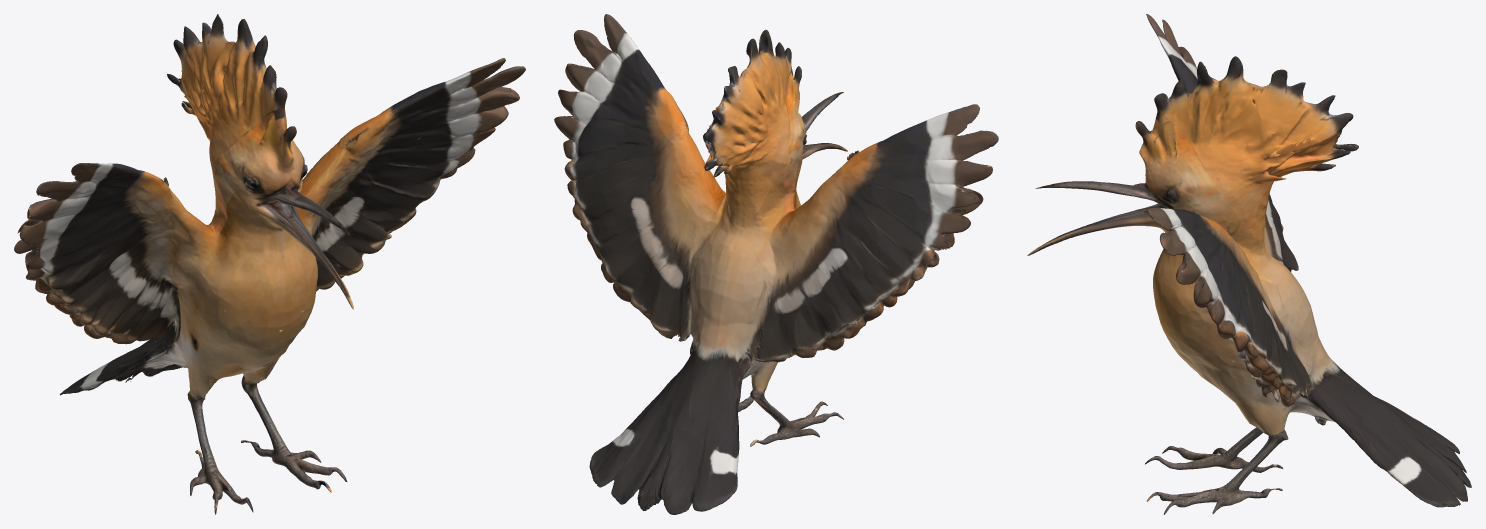
File: hoopoe.glb
3 renders of one model, left to right at view 1: azimuth 30°, elevation 25°; view 2: azimuth 150°, elevation 25°; view 3: azimuth 270°, elevation 25°, orthographic. The views are drawn at different scales.
Parts seen in each view (by area): view 1: Mesh_0.137_Material_0.144_0 (×3); view 2: Mesh_0.137_Material_0.144_0 (×3); view 3: Mesh_0.137_Material_0.144_0 (×3).
Boxes of the visible parts, x1,y1,x2,y2 form: Mesh_0.137_Material_0.144_0 (×3): (14, 14, 525, 514); Mesh_0.137_Material_0.144_0 (×3): (554, 14, 998, 514); Mesh_0.137_Material_0.144_0 (×3): (1027, 14, 1471, 514).
Bounding box in the file's own units: 2 × 1.77 × 1.65.
Materials: 1 (1 with a texture image).
